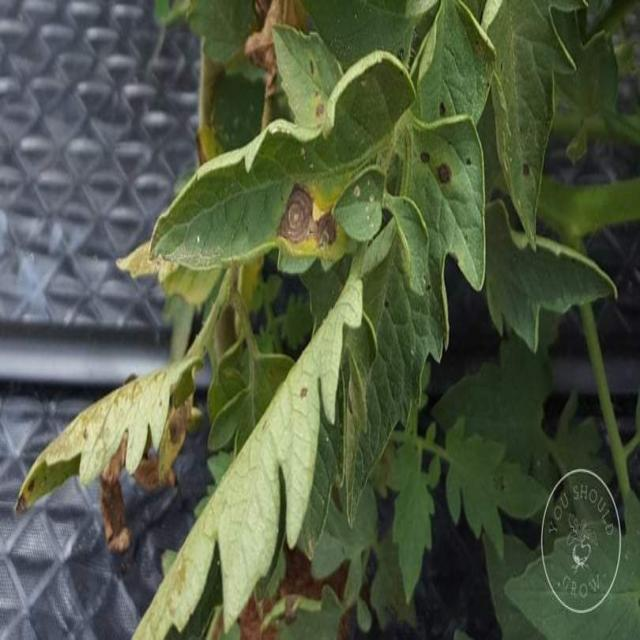Early_blight: (93, 387, 193, 553), (242, 1, 305, 99), (274, 177, 337, 258), (15, 467, 40, 515), (193, 124, 217, 167), (431, 157, 458, 187)
